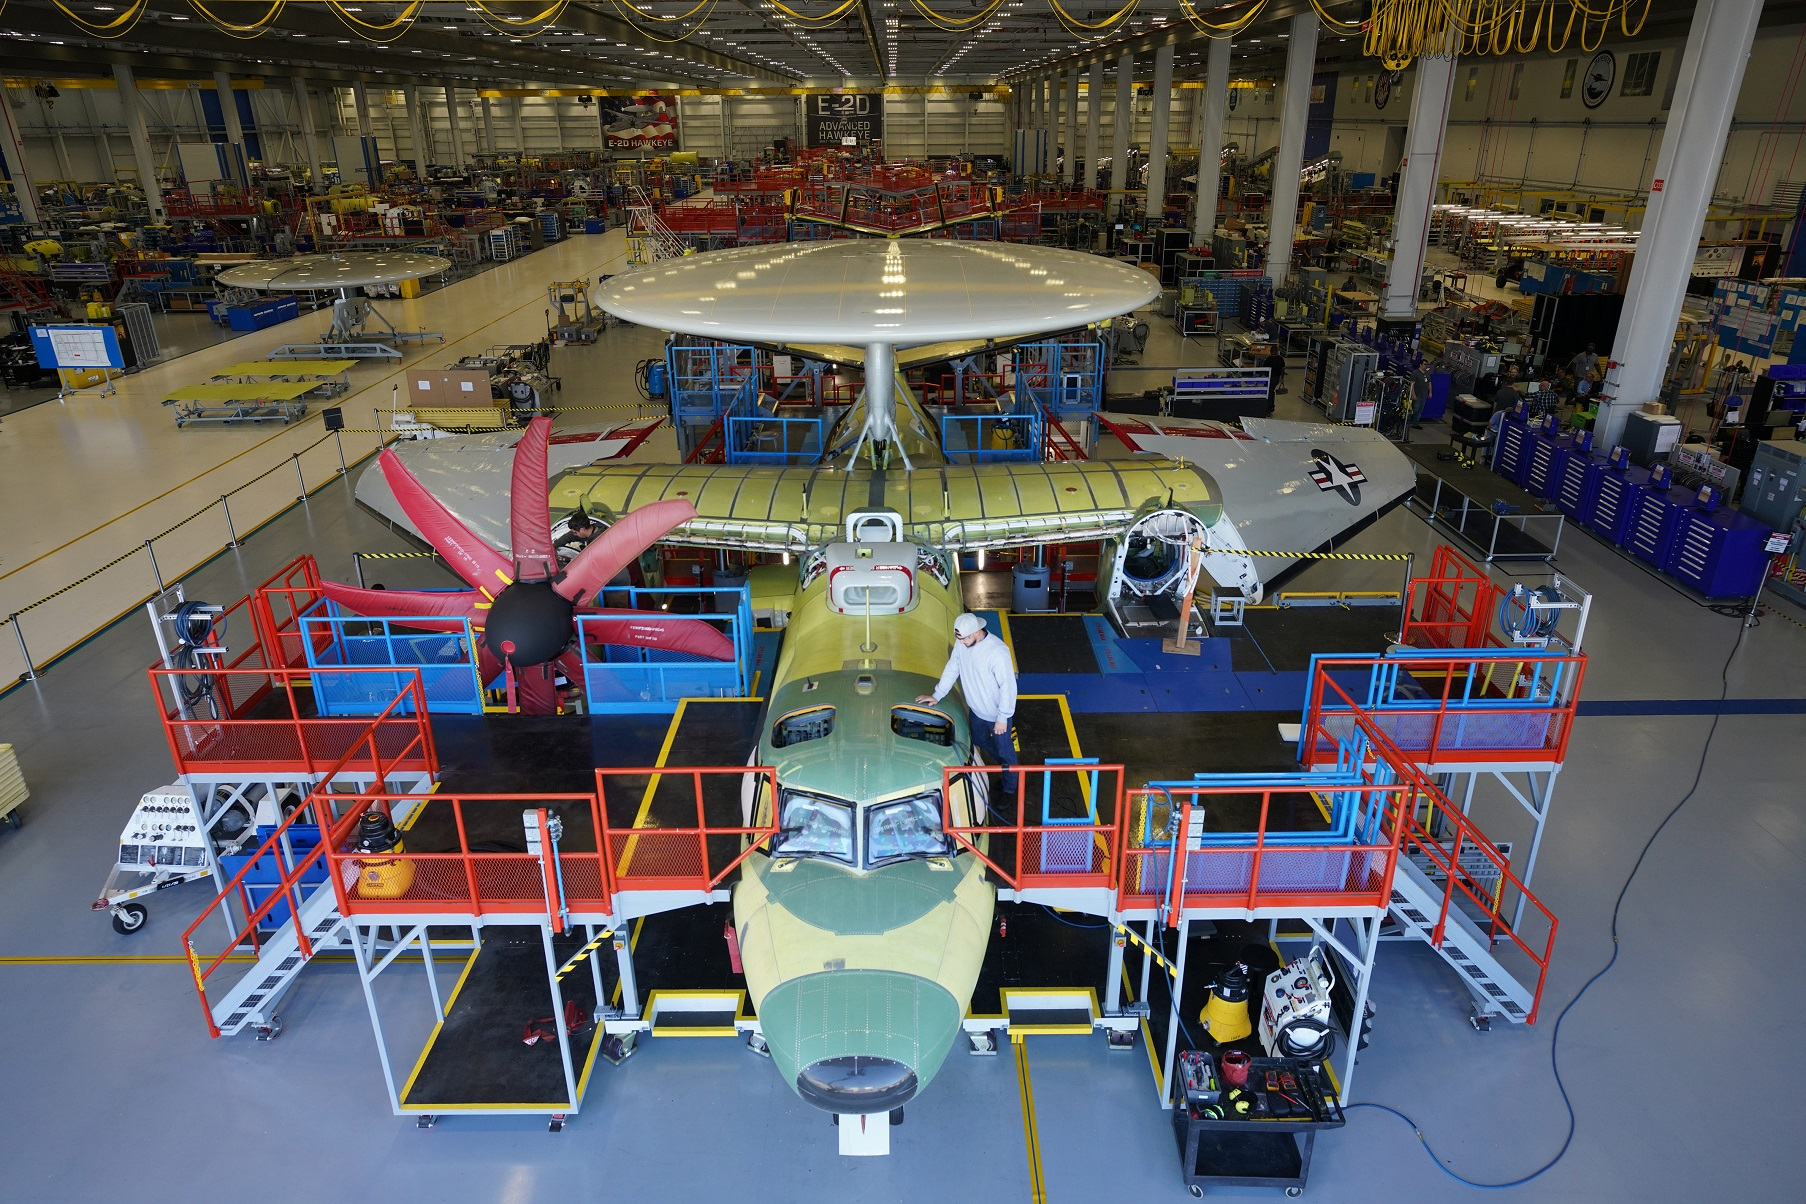E2: (318, 236, 1418, 1157)
